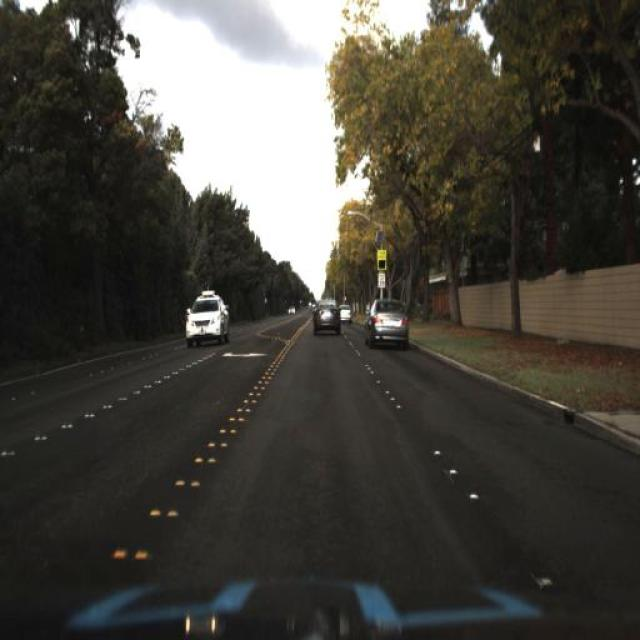car: (354, 288, 418, 359), (178, 286, 236, 350), (306, 291, 346, 341), (284, 298, 300, 324), (338, 296, 353, 322)
